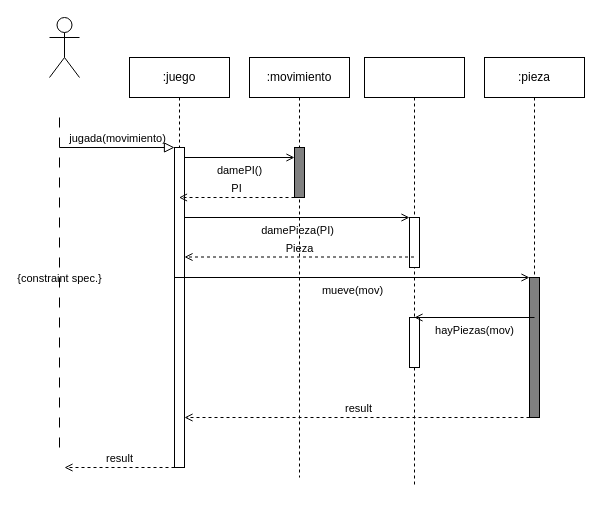
Some shapes in this 602 by 505 pixel diagram are drawn without their labels. Here are the shapes that lost their labels. From the top down, the centre of each, then its label:
the point at 64,47: Actor
the point at 414,272: :tablero
